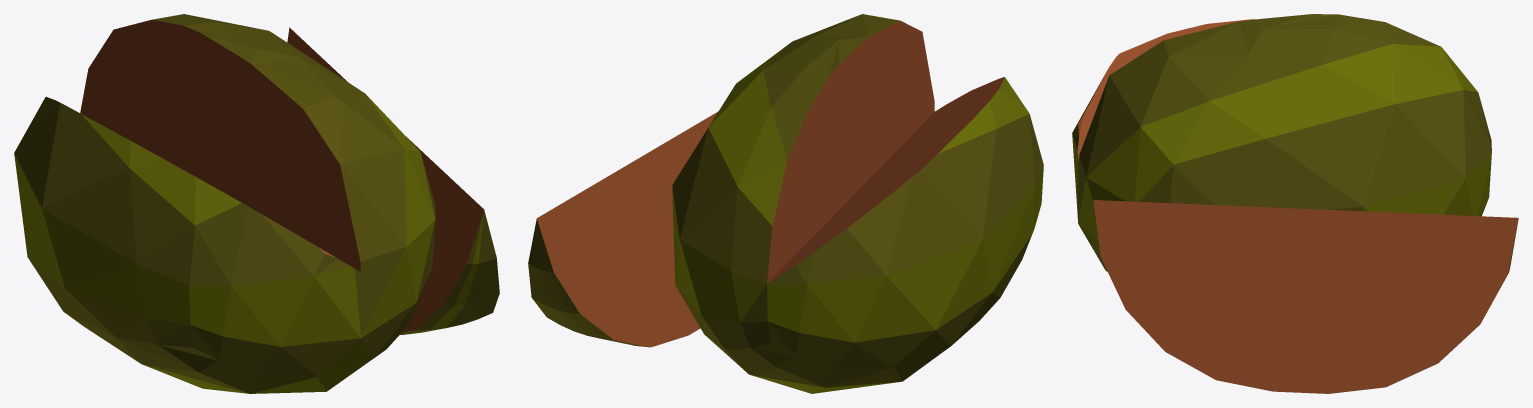
Rendered from MelonRoasted(Pickup).fbx.
3 renders of one model, left to right at view 1: azimuth 30°, elevation 25°; view 2: azimuth 150°, elevation 25°; view 3: azimuth 270°, elevation 25°, orthographic. The views are drawn at different scales.
Parts seen in each view (by area): view 1: MelonRoasted_Pickup_; view 2: MelonRoasted_Pickup_; view 3: MelonRoasted_Pickup_.
Part boxes in pixels (bbox=[...]): MelonRoasted_Pickup_: bbox=[14, 14, 499, 393]; MelonRoasted_Pickup_: bbox=[528, 14, 1043, 393]; MelonRoasted_Pickup_: bbox=[1072, 14, 1518, 393].
Bounding box in the file's own units: 44.12 × 33.73 × 48.05.
